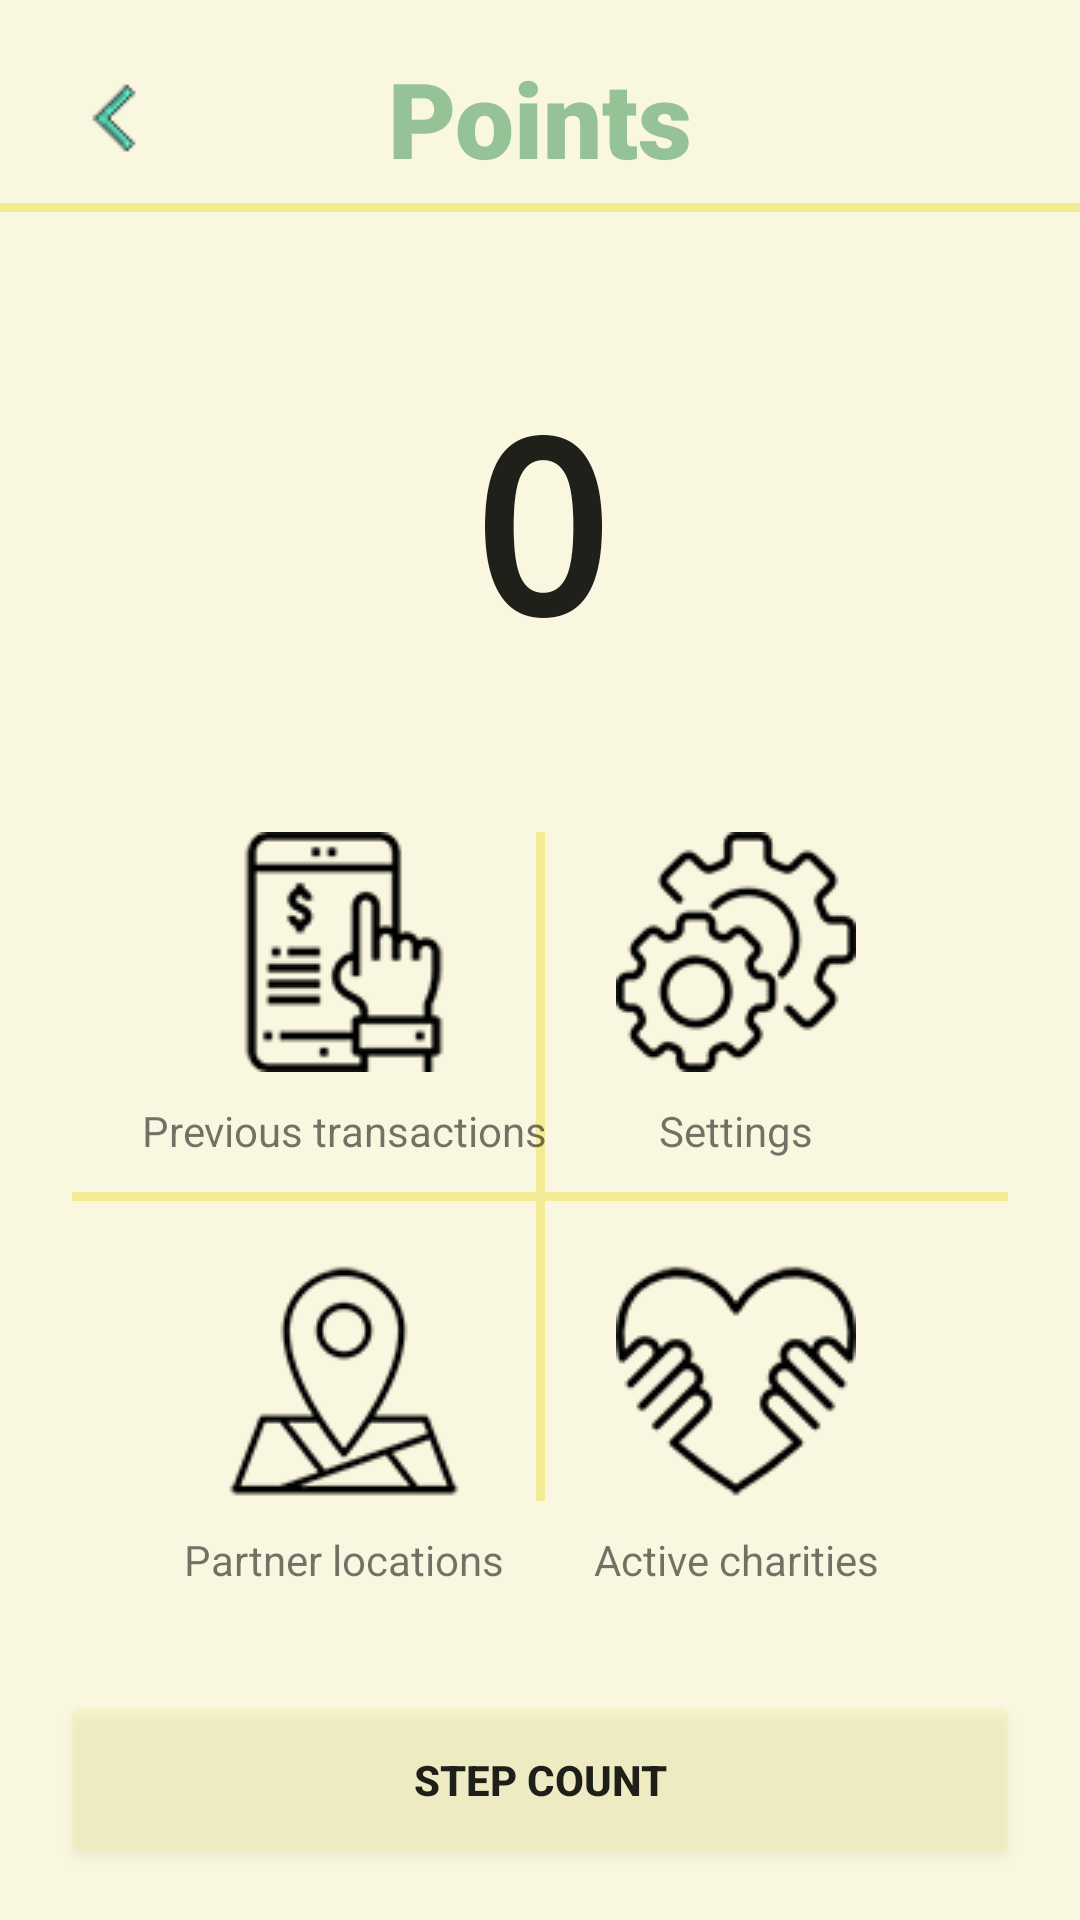

Where icons sit on this 1080px×1920px app screen, as (x1, y1, x2, y2):
back: (92, 84, 136, 152)
heart: (616, 1266, 856, 1496)
phone: (244, 832, 444, 1072)
